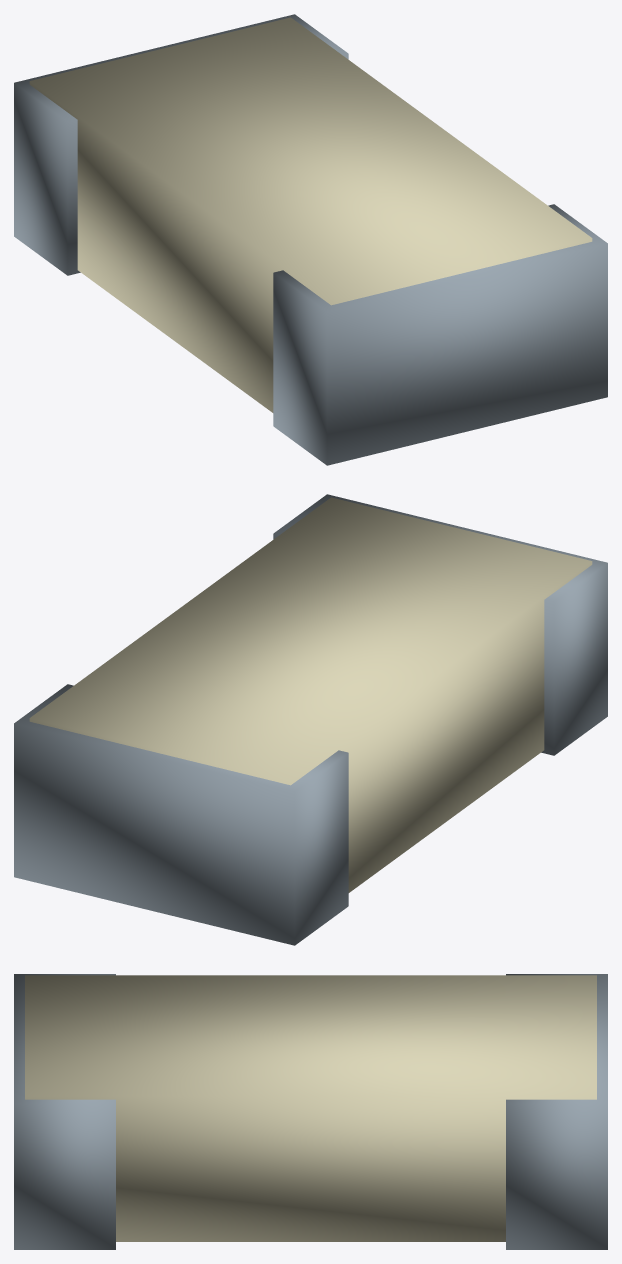
The picture shows the model from 3 angles, top to bottom: view 1: azimuth 30°, elevation 25°; view 2: azimuth 150°, elevation 25°; view 3: azimuth 270°, elevation 25°; orthographic projection. The views are drawn at different scales.
Parts seen in each view (by area): view 1: Part_000, Part_001, Part_002; view 2: Part_000, Part_002, Part_001; view 3: Part_000, Part_001, Part_002.
Part boxes in pixels (x1,y1,x2,y2): Part_000: [29, 17, 592, 412]; Part_001: [273, 204, 607, 465]; Part_002: [14, 14, 348, 275]; Part_000: [29, 497, 592, 892]; Part_002: [14, 684, 348, 945]; Part_001: [273, 494, 607, 755]; Part_000: [25, 975, 596, 1241]; Part_001: [14, 974, 115, 1249]; Part_002: [506, 974, 607, 1249].
Bounding box in the file's own units: 0.00172 × 0.00332 × 0.00092.
